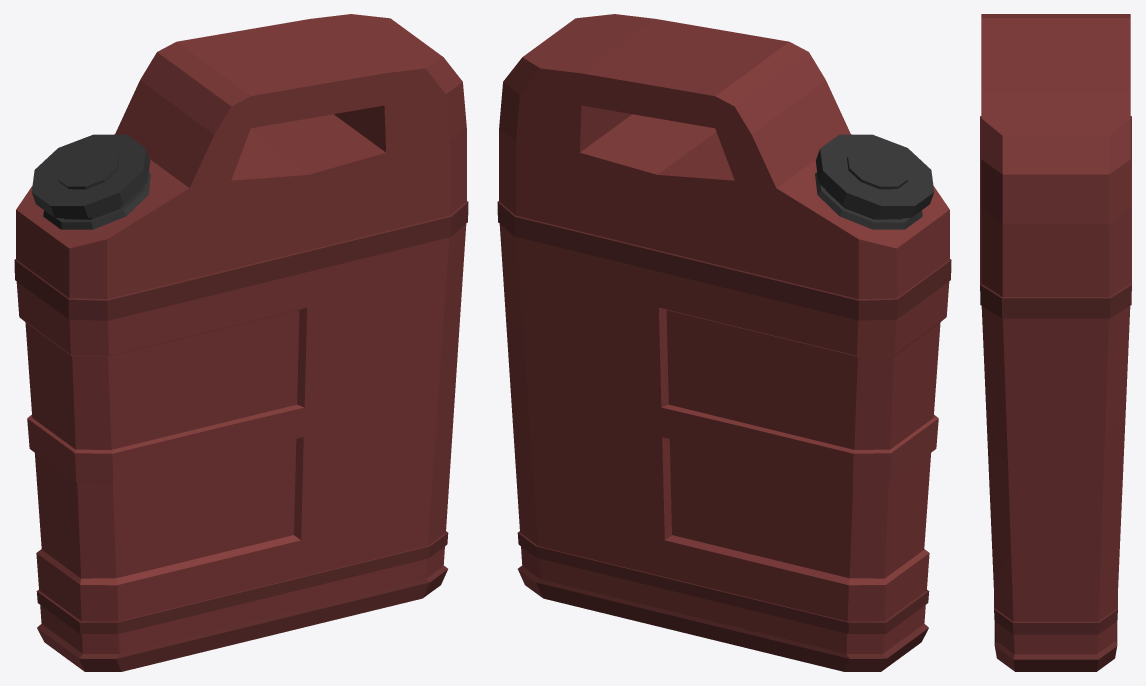
The model's file is gascan.glb.
3 renders of one model, left to right at view 1: azimuth 30°, elevation 25°; view 2: azimuth 150°, elevation 25°; view 3: azimuth 270°, elevation 25°, orthographic.
Parts seen in each view (by area): view 1: GasCan; view 2: GasCan; view 3: GasCan.
Boxes of the visible parts, x1=… form: GasCan: x1=14, y1=14, x2=468, y2=671; GasCan: x1=497, y1=14, x2=951, y2=671; GasCan: x1=980, y1=14, x2=1131, y2=671.
Size of the model in its own units: 1.88 by 2.47 by 0.6153.
